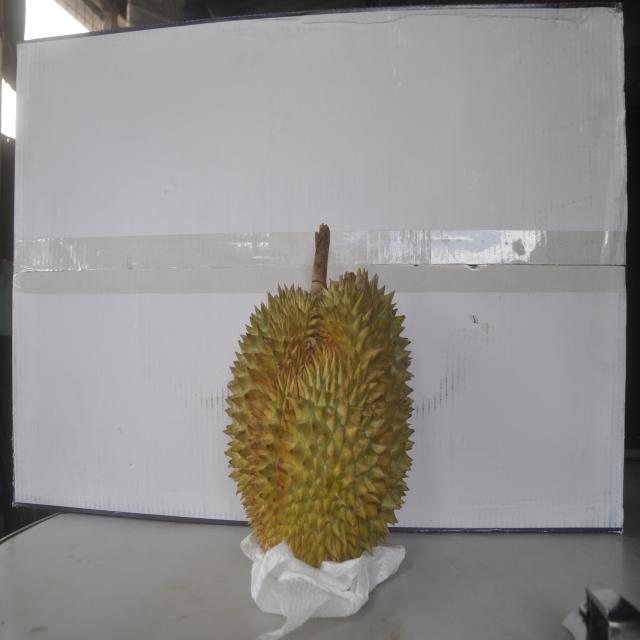mature: (224, 247, 415, 569)
